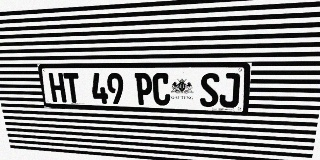4: (90, 73, 109, 104)
9: (106, 73, 125, 104)
C: (152, 73, 170, 106)
H: (48, 73, 67, 102)
J: (219, 73, 240, 108)
P: (135, 73, 153, 105)
S: (200, 73, 220, 107)
T: (63, 73, 82, 103)
